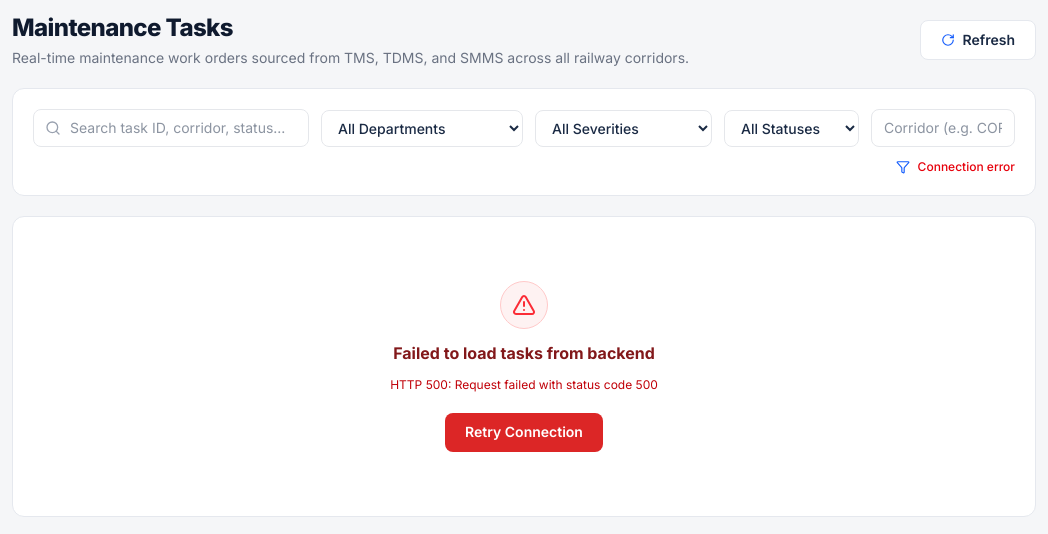
Test: TasksPage - Loading and Data Render › renders error state on API failure and retries on button click
Expected: the heading "Failed to load tasks from backend" is shown, [393, 343, 655, 363]
Click the button "Retry Connection". click: (524, 432)
box: [445, 413, 603, 452]
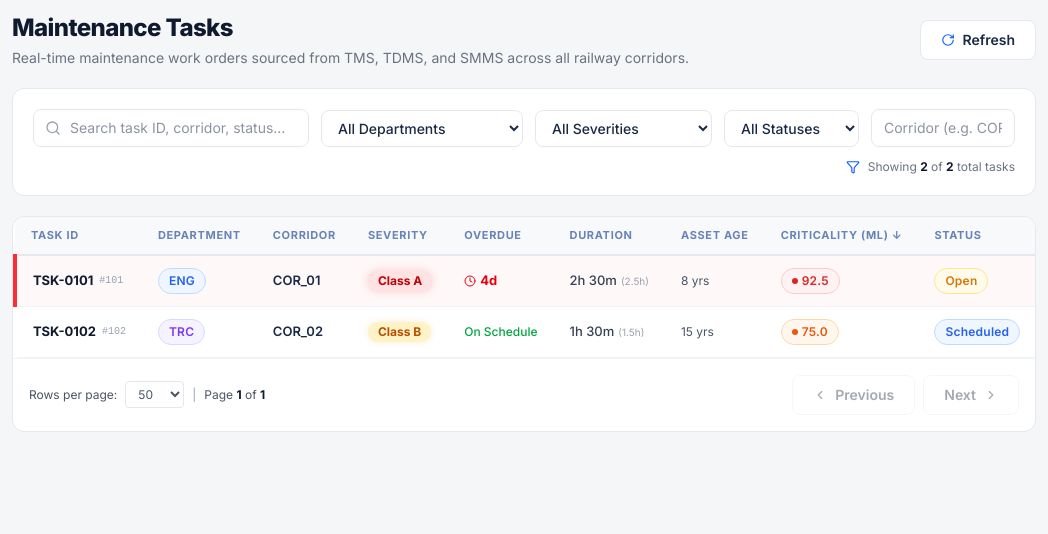
Now the text "TSK-0101" is shown, box [33, 271, 93, 290]
